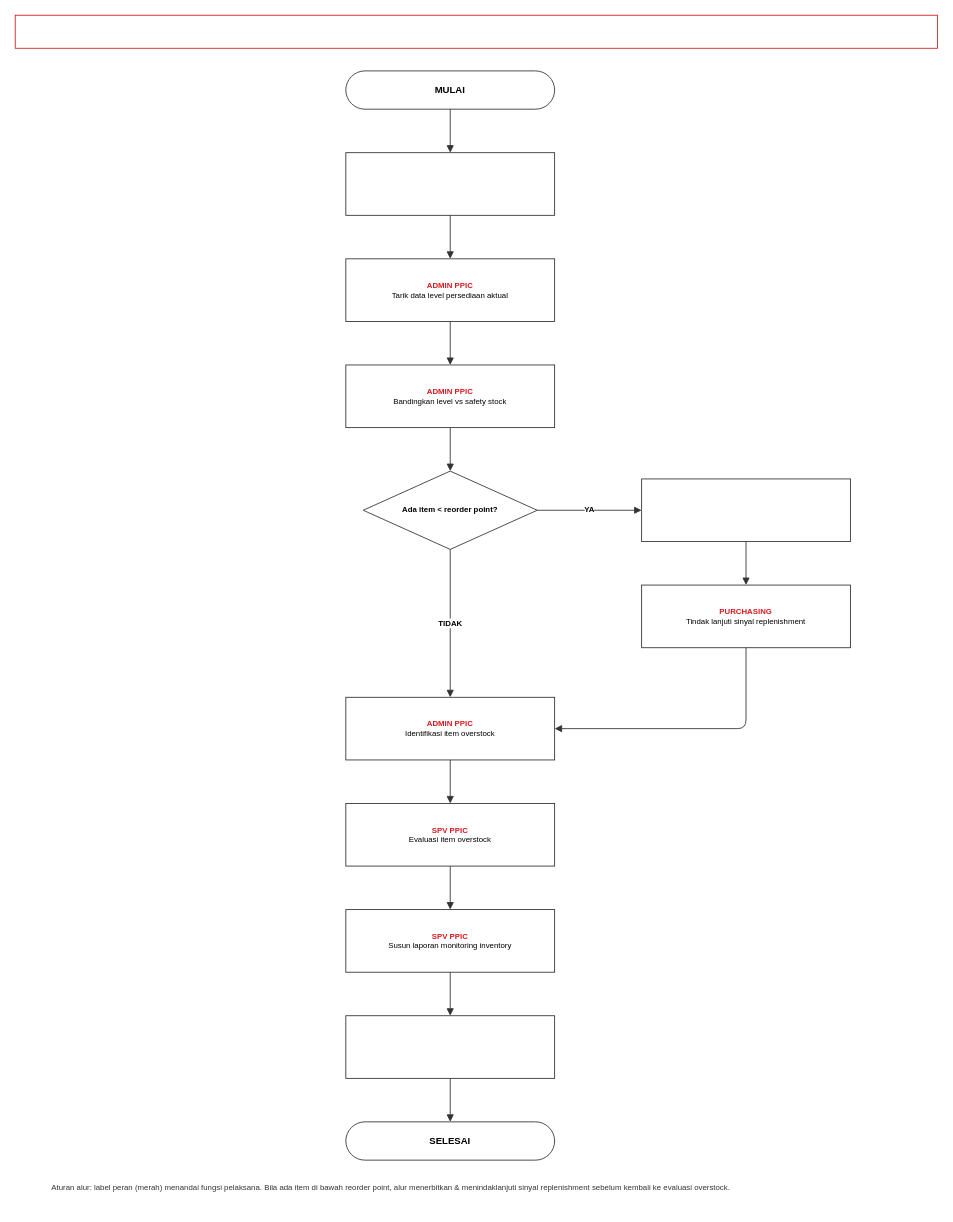
The diagram is 953 pixels wide and 1222 high, and some of its shapes have lost their labels. The centre of each missing label's shape, as x and y in pixels:
ADMIN PPIC Arsipkan rekaman monitoring: point (450, 1046)
FLOW SOP-AKSI-PPIC-03 MONITORING INVENTORY & SAFETY STOCK: point (475, 31)
SPV PPIC Terbitkan sinyal replenishment: point (745, 510)
SPV PPIC Tetapkan/mutakhirkan safety stock & reorder point: point (450, 183)
